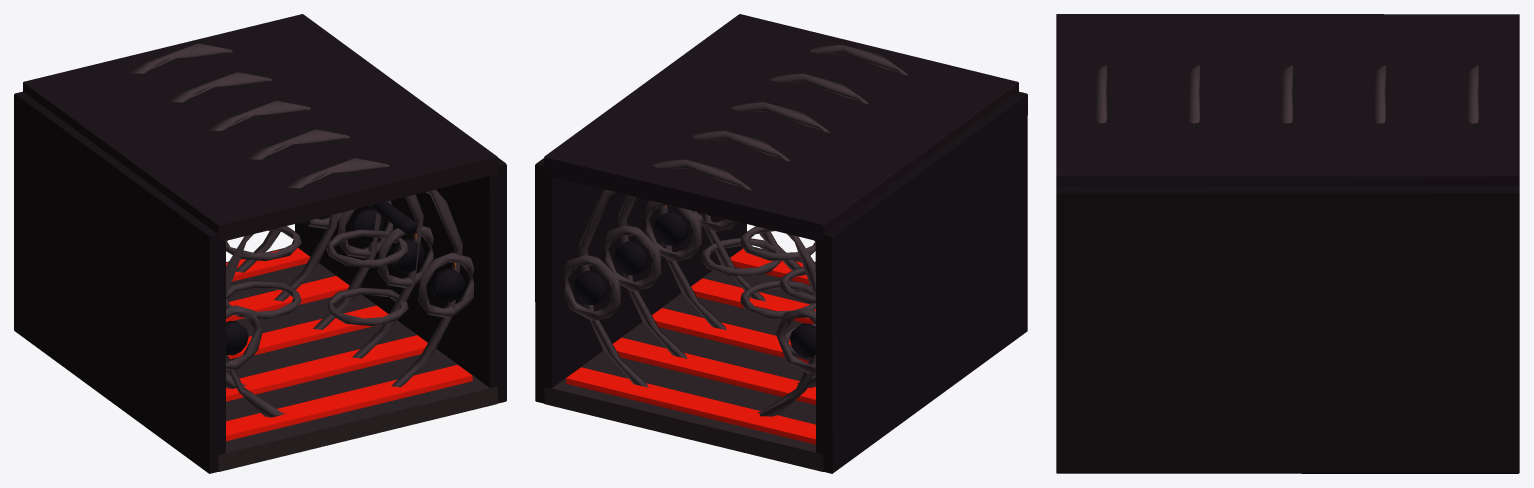
Rendered from molten_furnace.obj.
3 renders of one model, left to right at view 1: azimuth 30°, elevation 25°; view 2: azimuth 150°, elevation 25°; view 3: azimuth 270°, elevation 25°, orthographic. The views are drawn at different scales.
Parts seen in each view (by area): view 1: MoltenFurnace_Ceiling, MoltenFurnace_Wall_L, MoltenFurnace_Floor, MoltenFurnace_Wall_R, Furnace_LavaChannel_4, MoltenFurnace_Arch_4, Furnace_LavaChannel_3, MoltenFurnace_Arch_3, Furnace_LavaChannel_2, MoltenFurnace_Arch_1, MoltenFurnace_Arch_2, Furnace_LavaChannel_1 (+15 smaller); view 2: MoltenFurnace_Ceiling, MoltenFurnace_Wall_L, MoltenFurnace_Wall_R, MoltenFurnace_Floor, Furnace_LavaChannel_0, MoltenFurnace_Arch_0, Furnace_LavaChannel_1, Furnace_LavaChannel_2, MoltenFurnace_Arch_1, MoltenFurnace_Arch_2, Furnace_LavaChannel_3, MoltenFurnace_Arch_3 (+14 smaller); view 3: MoltenFurnace_Wall_R, MoltenFurnace_Ceiling, MoltenFurnace_Arch_4, MoltenFurnace_Arch_3, MoltenFurnace_Arch_0, MoltenFurnace_Arch_1, MoltenFurnace_Arch_2.
Part boxes in pixels (x1,y1,x2,y2): MoltenFurnace_Ceiling: [23, 14, 497, 242]; MoltenFurnace_Wall_L: [14, 91, 225, 473]; MoltenFurnace_Floor: [218, 248, 497, 471]; MoltenFurnace_Wall_R: [295, 158, 506, 403]; Furnace_LavaChannel_4: [226, 365, 472, 441]; MoltenFurnace_Arch_4: [226, 158, 463, 417]; Furnace_LavaChannel_3: [226, 335, 427, 401]; MoltenFurnace_Arch_3: [226, 129, 423, 388]; Furnace_LavaChannel_2: [228, 305, 388, 359]; MoltenFurnace_Arch_1: [169, 72, 338, 301]; MoltenFurnace_Arch_2: [208, 100, 380, 329]; Furnace_LavaChannel_1: [226, 276, 349, 322]; MoltenFurnace_Ceiling: [544, 14, 1018, 242]; MoltenFurnace_Wall_L: [815, 91, 1027, 473]; MoltenFurnace_Wall_R: [535, 158, 746, 403]; MoltenFurnace_Floor: [544, 247, 823, 471]; Furnace_LavaChannel_0: [566, 367, 815, 444]; MoltenFurnace_Arch_0: [579, 159, 815, 416]; Furnace_LavaChannel_1: [606, 337, 815, 404]; Furnace_LavaChannel_2: [652, 308, 808, 363]; MoltenFurnace_Arch_1: [618, 131, 815, 387]; MoltenFurnace_Arch_2: [659, 102, 829, 330]; Furnace_LavaChannel_3: [691, 278, 815, 323]; MoltenFurnace_Arch_3: [701, 73, 868, 301]; MoltenFurnace_Wall_R: [1056, 186, 1519, 473]; MoltenFurnace_Ceiling: [1056, 14, 1519, 186]; MoltenFurnace_Arch_4: [1096, 65, 1107, 123]; MoltenFurnace_Arch_3: [1189, 65, 1200, 123]; MoltenFurnace_Arch_0: [1468, 65, 1478, 123]; MoltenFurnace_Arch_1: [1375, 65, 1385, 123]; MoltenFurnace_Arch_2: [1282, 65, 1292, 123].
Size of the model in its own units: 102 by 85.34 by 116.
